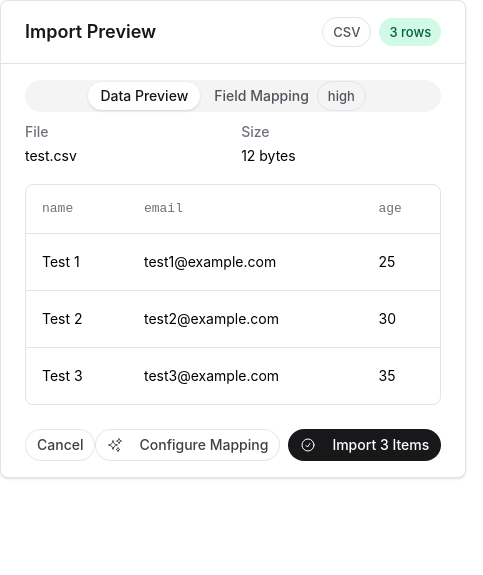
Test case: ImportPreviewWithMapping › Tab Navigation › switches between preview and mapping tabs
Expected: the button "Data Preview" is shown, [88,82,200,110]
Click the text "Field Mapping" at x=262, y=96, box [214,84,309,108]
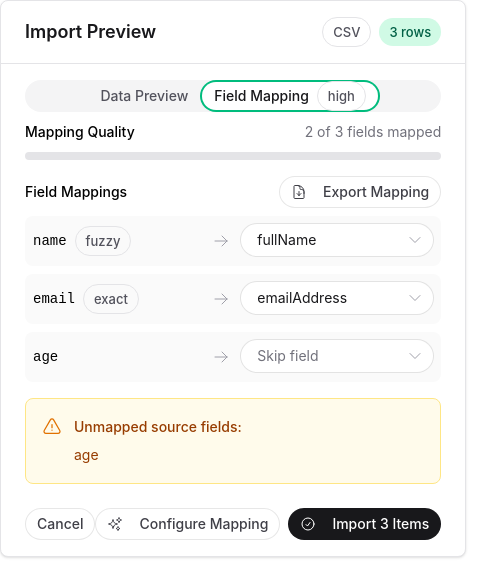
Expected: the text "Mapping Quality" is shown, [25,120,135,144]
Click the button "Data Preview" at x=144, y=96, box [88,82,200,110]
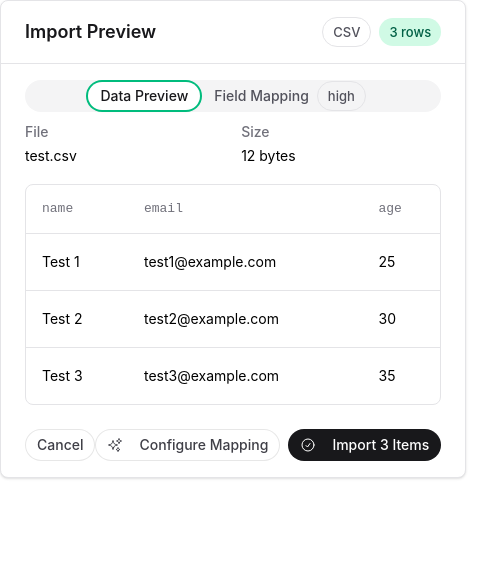
Expected: the text "test.csv" is shown, [25,147,77,164]
